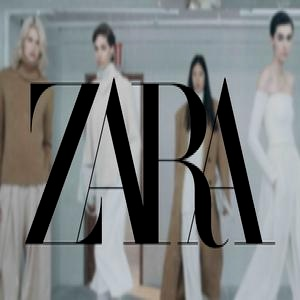zara: (267, 38, 290, 112)
